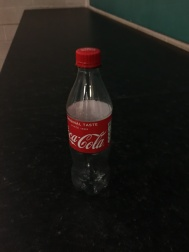bottle_red: (59, 42, 123, 208)
